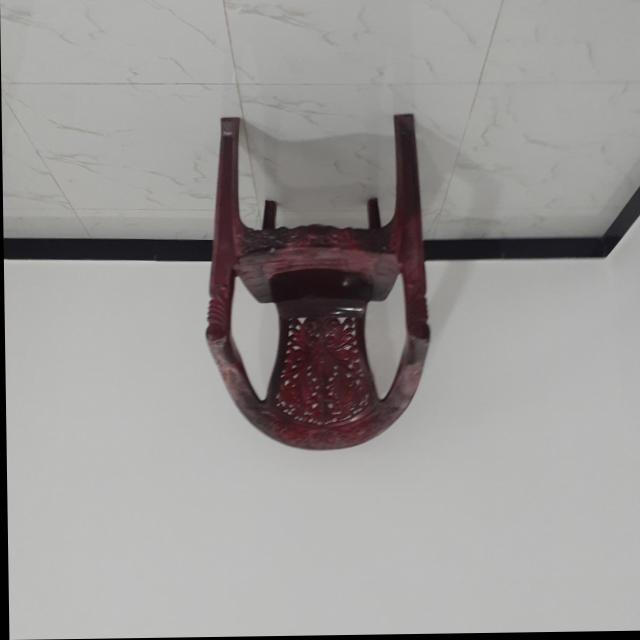Chair: (202, 111, 433, 455)
